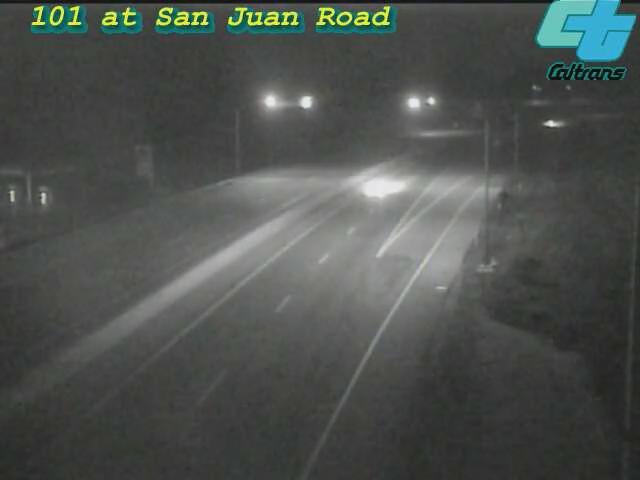vehicle: (342, 144, 422, 224), (527, 98, 577, 148)
